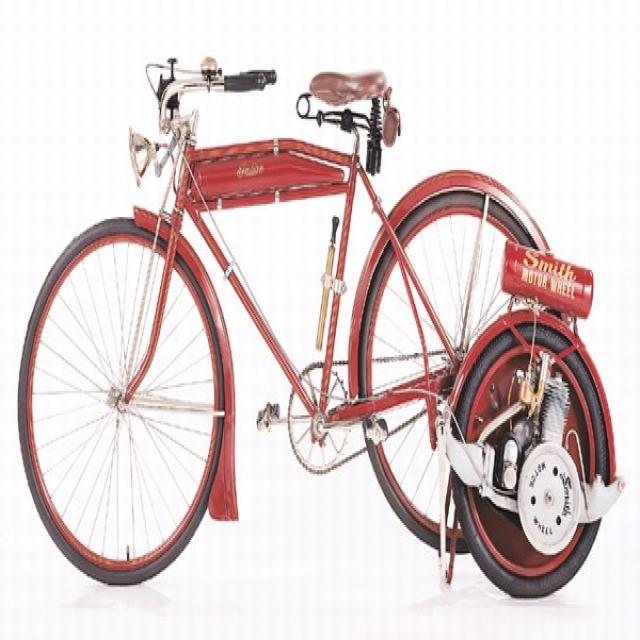bicycle: (19, 60, 622, 597)
